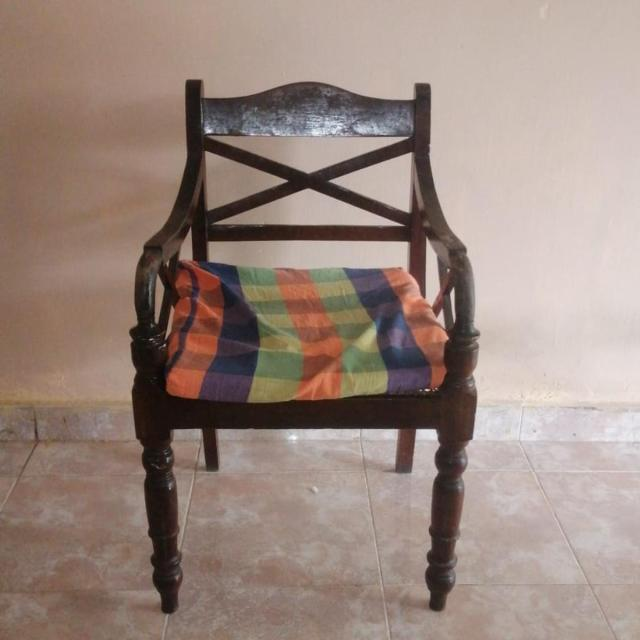chair: (128, 76, 484, 616)
